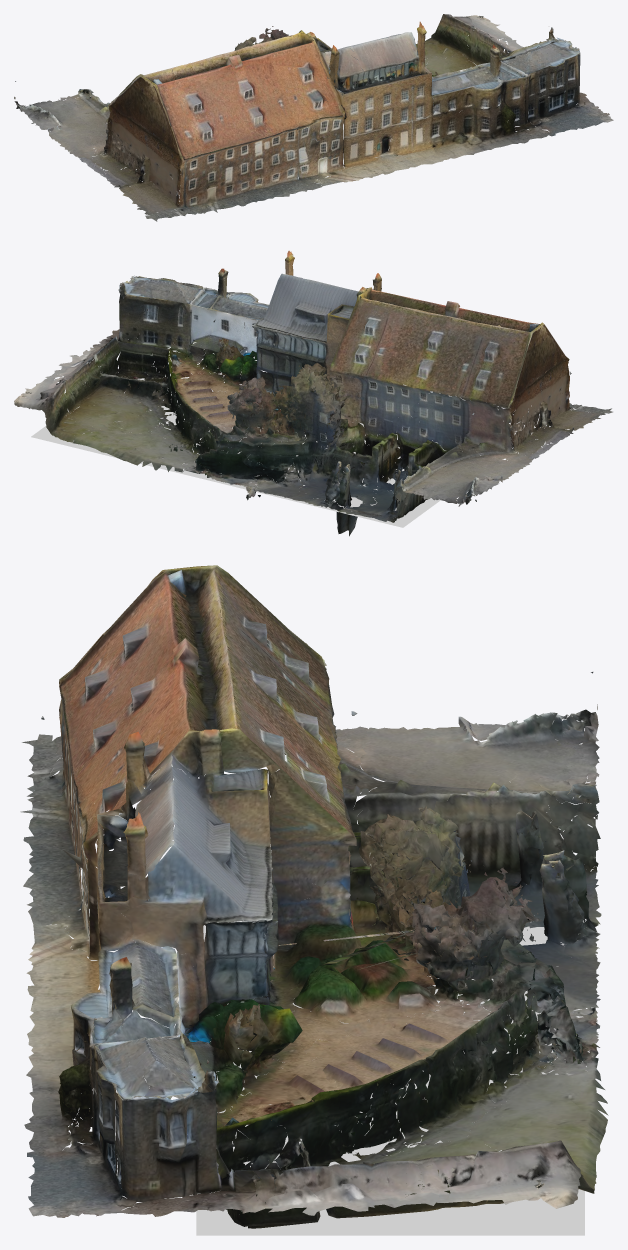
The model's file is housemill_slimmed_ar.glb.
The picture shows the model from 3 angles, top to bottom: view 1: azimuth 30°, elevation 25°; view 2: azimuth 150°, elevation 25°; view 3: azimuth 270°, elevation 25°; orthographic projection. The views are drawn at different scales.
Visible parts, largest first — view 1: Housemill; view 2: Housemill, Plane; view 3: Housemill, Plane.
Part boxes in pixels (x1,y1,x2,y2): Housemill: [14, 14, 613, 221]; Housemill: [14, 250, 612, 536]; Plane: [31, 374, 480, 527]; Housemill: [20, 565, 608, 1228]; Plane: [196, 884, 584, 1235].
Size of the model in its own units: 26.87 by 9.2 by 14.47.
Materials: 1 (1 with a texture image).
